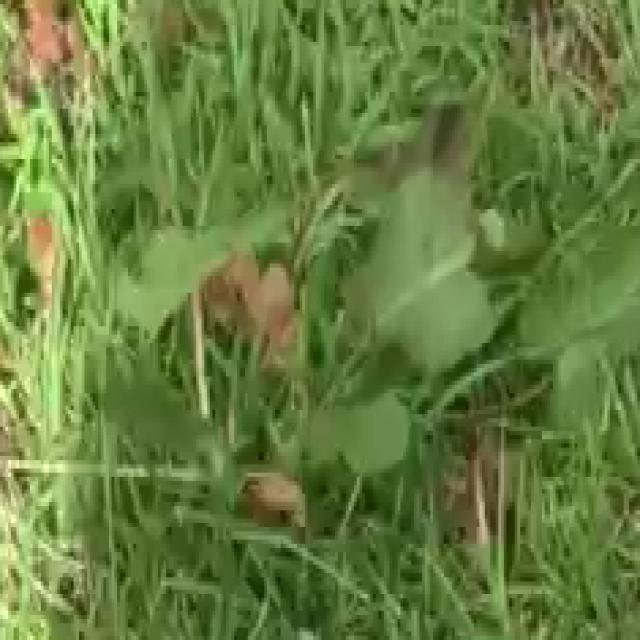organic waste: (92, 134, 640, 594)
